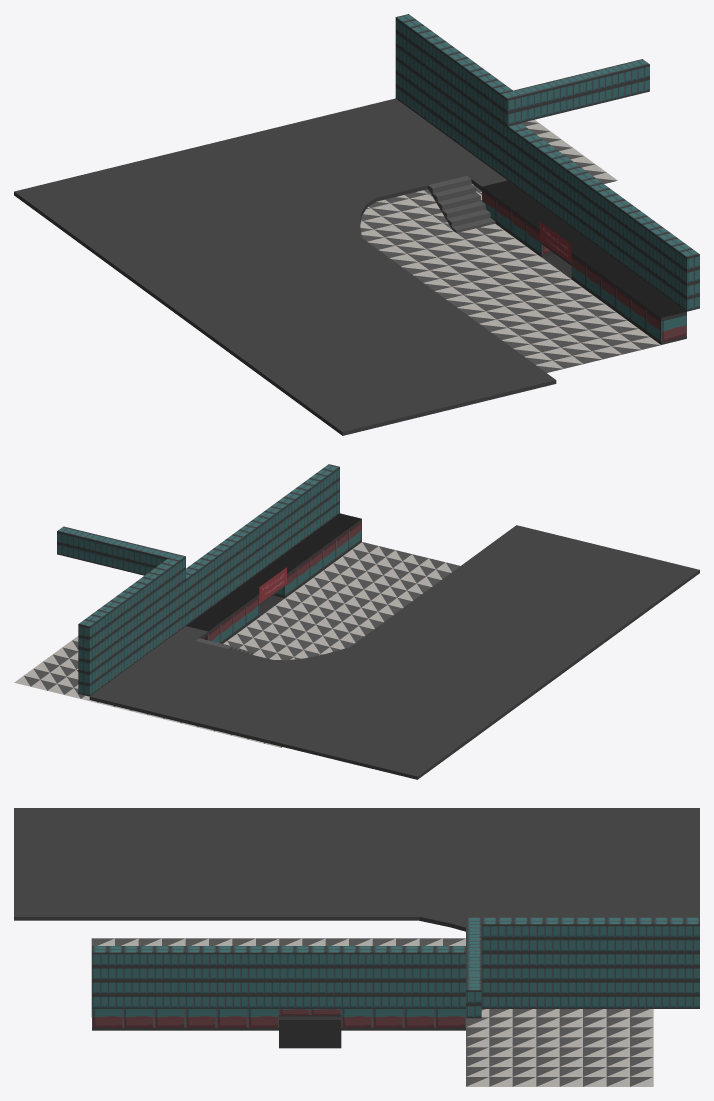
The model's file is level_bakgrund.glb.
3 renders of one model, top to bottom at view 1: azimuth 30°, elevation 25°; view 2: azimuth 150°, elevation 25°; view 3: azimuth 270°, elevation 25°, orthographic. The views are drawn at different scales.
Parts seen in each view (by area): view 1: Cube.118, Plane, Plane.002, Plane.004, Cube.222, Cube.098, Plane.003, Cube.044, Cube.045, Cube.063, Cube.062, Cube.080 (+5 smaller); view 2: Cube.118, Plane, Plane.002, Plane.003, Cube.080, Cube.081, Cube.044, Cube.045, Cube.063, Cube.041, Cube.040, Cube.098 (+2 smaller); view 3: Cube.118, Plane.003, Cube.117, Plane, Plane.002, Cube.040, Cube.044, Cube.045, Cube.062, Cube.080, Cube.063, Cube.081 (+3 smaller).
Part boxes in pixels (x1,y1,x2,y2): Cube.118: (14, 98, 556, 435); Plane: (457, 279, 660, 372); Plane.002: (367, 222, 571, 307); Plane.004: (360, 190, 447, 241); Cube.222: (428, 176, 495, 232); Cube.098: (646, 301, 686, 344); Plane.003: (424, 119, 617, 201); Cube.044: (526, 213, 567, 257); Cube.045: (511, 202, 551, 246); Cube.063: (601, 268, 641, 311); Cube.062: (496, 191, 536, 235); Cube.080: (616, 279, 656, 322); Cube.118: (89, 525, 699, 779); Plane: (285, 542, 459, 622); Plane.002: (223, 598, 383, 660); Plane.003: (14, 636, 148, 715); Cube.080: (301, 532, 336, 569); Cube.081: (314, 523, 349, 560); Cube.044: (224, 588, 259, 625); Cube.045: (212, 598, 246, 635); Cube.063: (289, 541, 323, 579); Cube.041: (263, 560, 297, 598); Cube.040: (276, 551, 310, 588); Cube.098: (327, 513, 361, 550); Cube.118: (14, 808, 699, 931); Plane.003: (466, 1009, 653, 1086); Cube.117: (279, 1016, 341, 1048); Plane: (91, 938, 279, 1017); Plane.002: (278, 938, 465, 945); Cube.040: (216, 1009, 247, 1030); Cube.044: (341, 1009, 372, 1030); Cube.045: (372, 1009, 403, 1030); Cube.062: (403, 1009, 434, 1030); Cube.080: (154, 1009, 185, 1030); Cube.063: (185, 1009, 216, 1030); Cube.081: (123, 1009, 154, 1030).
Size of the model in its own units: 81 by 18 by 88.
Materials: 171 (149 with a texture image).
